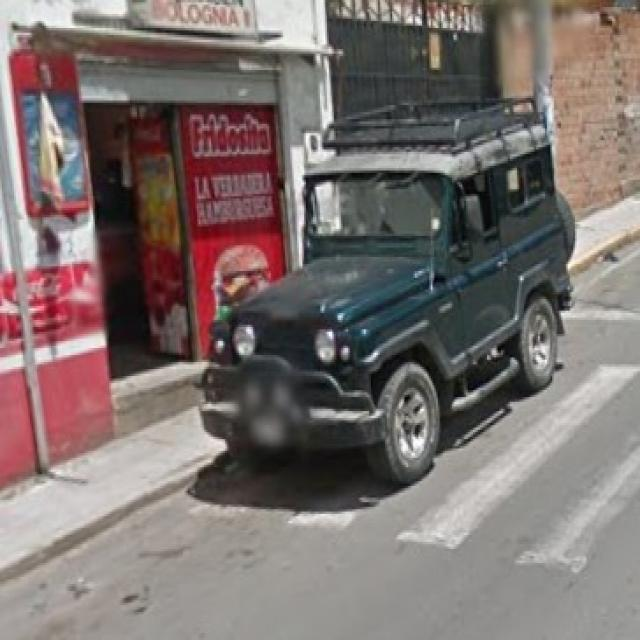cars: (208, 108, 574, 480)
